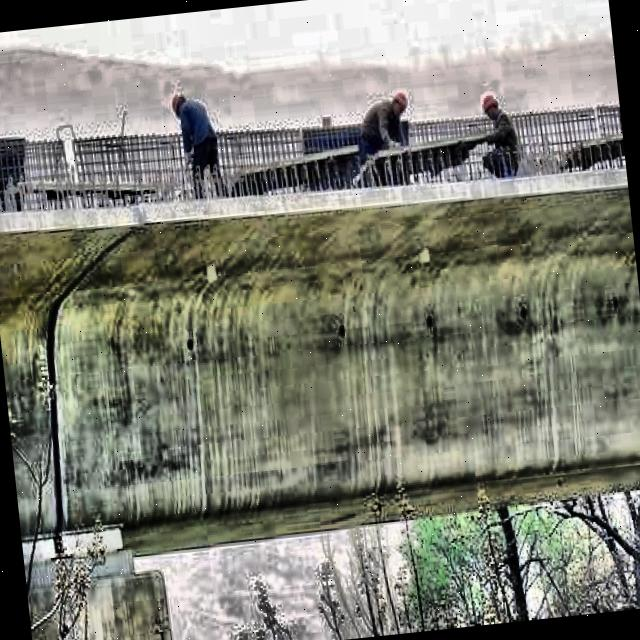helmet: (386, 85, 414, 120), (164, 89, 191, 118), (481, 90, 504, 123)
